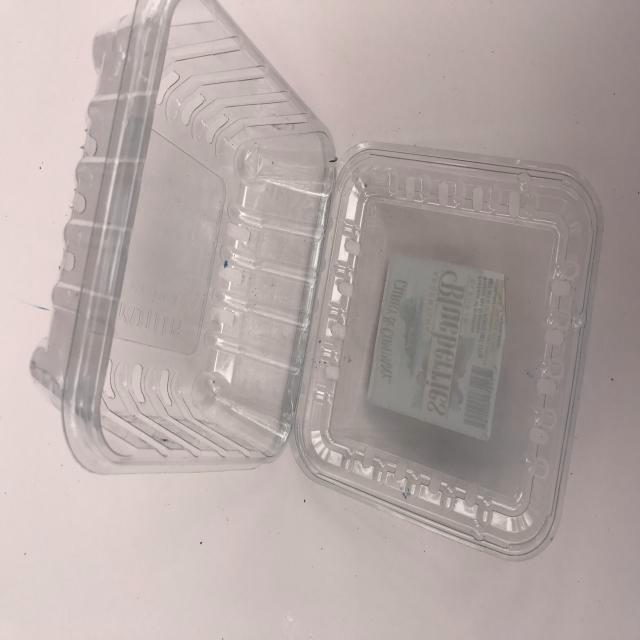plastic: (24, 0, 610, 604)
